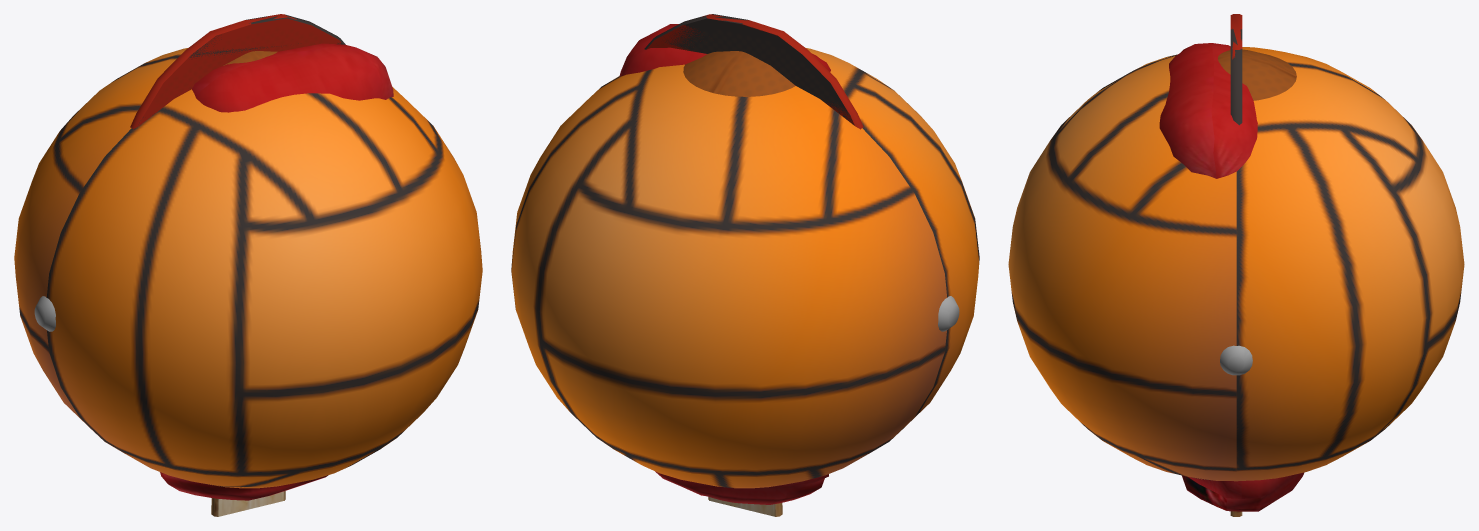
The model's file is Collections Ball&Sport.FBX.
3 renders of one model, left to right at view 1: azimuth 30°, elevation 25°; view 2: azimuth 150°, elevation 25°; view 3: azimuth 270°, elevation 25°, orthographic. The views are drawn at different scales.
Parts seen in each view (by area): view 1: volleyball, boxing, table tennis bats, table tennis bats2, weird; view 2: volleyball, table tennis bats2, boxing, Rugby, table tennis bats, weird; view 3: volleyball, boxing, Rugby, table tennis bats2, weird.
Part boxes in pixels (box(x1,y1,x2,y2)): volleyball: box(14, 48, 482, 488); boxing: box(160, 43, 393, 500); table tennis bats: box(130, 14, 341, 516); table tennis bats2: box(138, 14, 345, 515); weird: box(34, 296, 55, 331); volleyball: box(511, 48, 979, 488); table tennis bats2: box(644, 14, 853, 516); boxing: box(619, 24, 830, 504); Rugby: box(683, 51, 795, 96); table tennis bats: box(646, 14, 863, 516); weird: box(938, 296, 959, 331); volleyball: box(1008, 47, 1464, 481); boxing: box(1159, 43, 1304, 511); Rugby: box(1218, 49, 1296, 100); table tennis bats2: box(1230, 28, 1242, 516); weird: box(1220, 345, 1252, 375).
Size of the model in its own units: 20.28 by 22.53 by 19.77.
